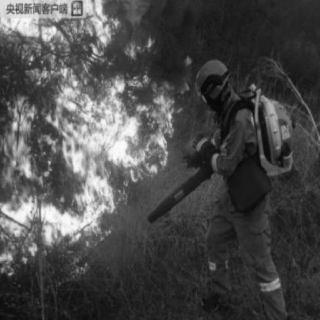Fire: (1, 0, 187, 268)
